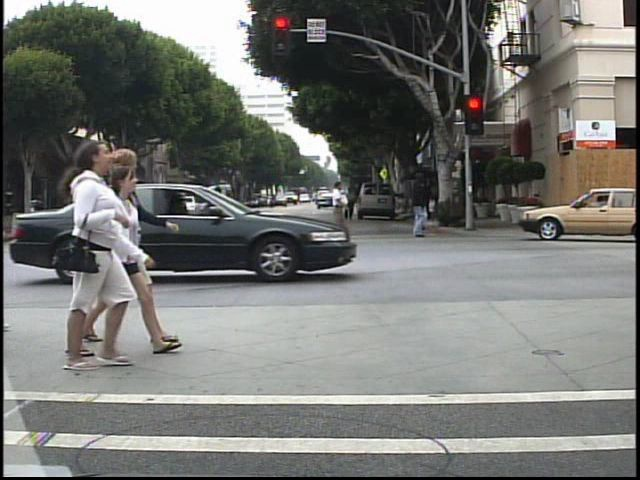person: (45, 141, 142, 377), (107, 162, 177, 366), (109, 145, 170, 350), (400, 167, 438, 240), (325, 177, 352, 241), (152, 187, 177, 250), (73, 190, 98, 246), (204, 182, 227, 241), (67, 184, 87, 247), (343, 187, 358, 222)
